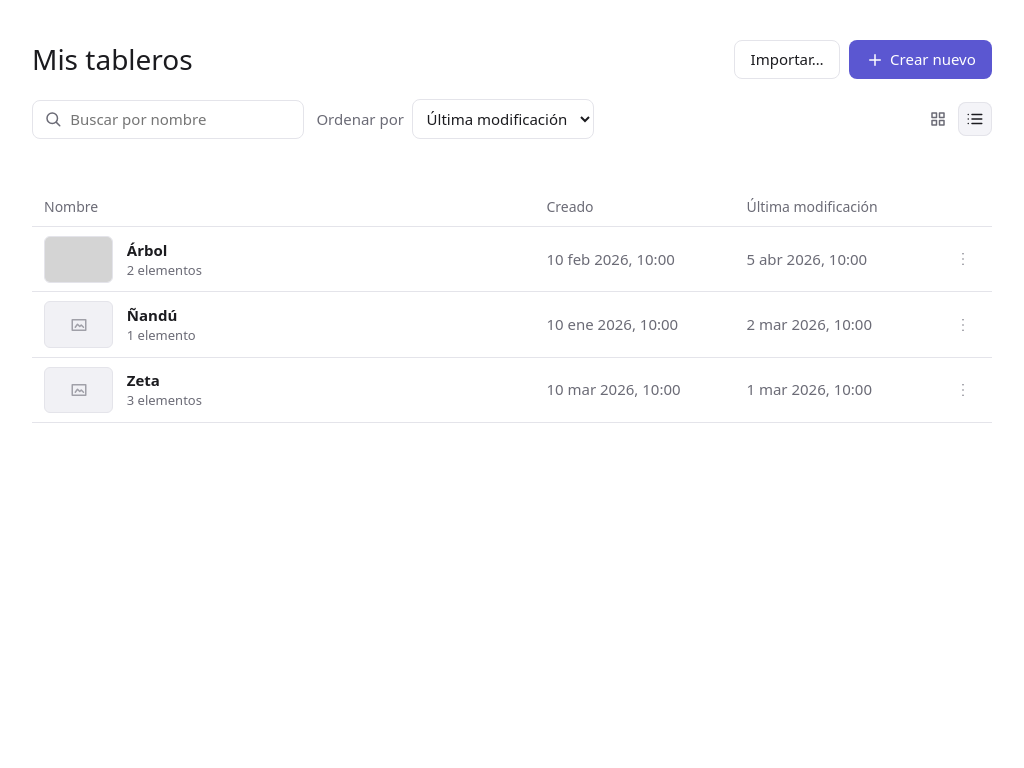
delete › reports a failed delete and keeps the board listed
Expected: the heading "Mis tableros" is shown, x1=32 y1=40 x2=193 y2=79
Expected: the link "Ñandú" is shown, x1=127 y1=305 x2=177 y2=325
Click the button named "Opciones de «Zeta»" at (963, 390), box x1=946 y1=373 x2=980 y2=407
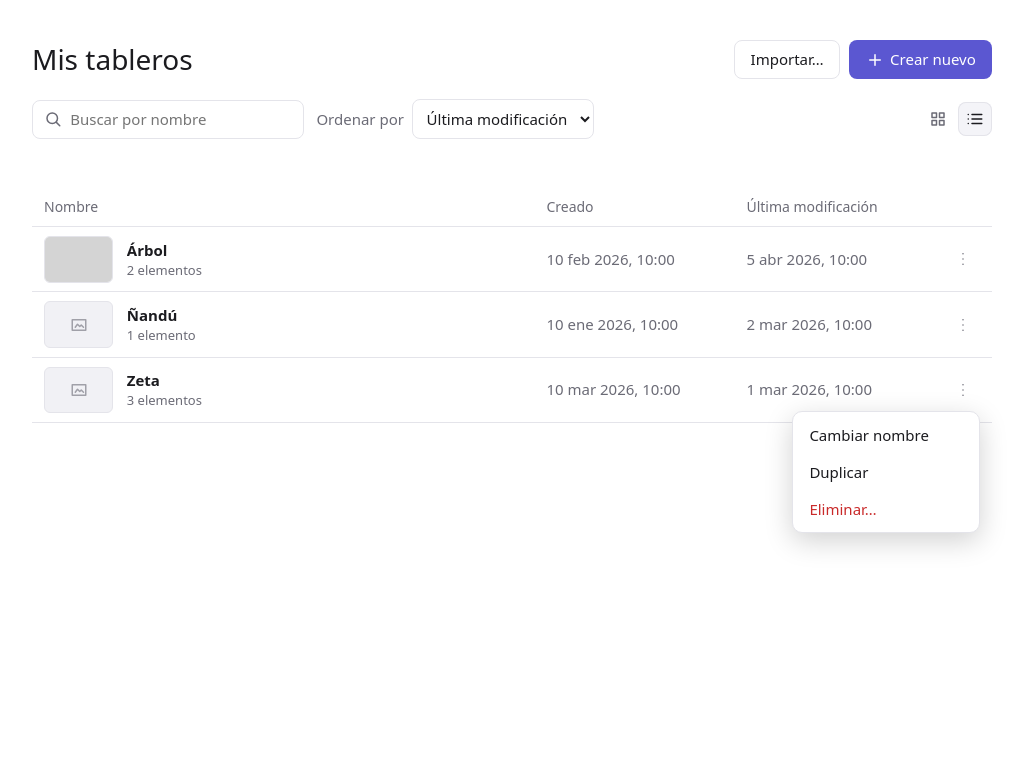
Click the menu item "Eliminar…" at (886, 509), box x1=798 y1=490 x2=974 y2=528
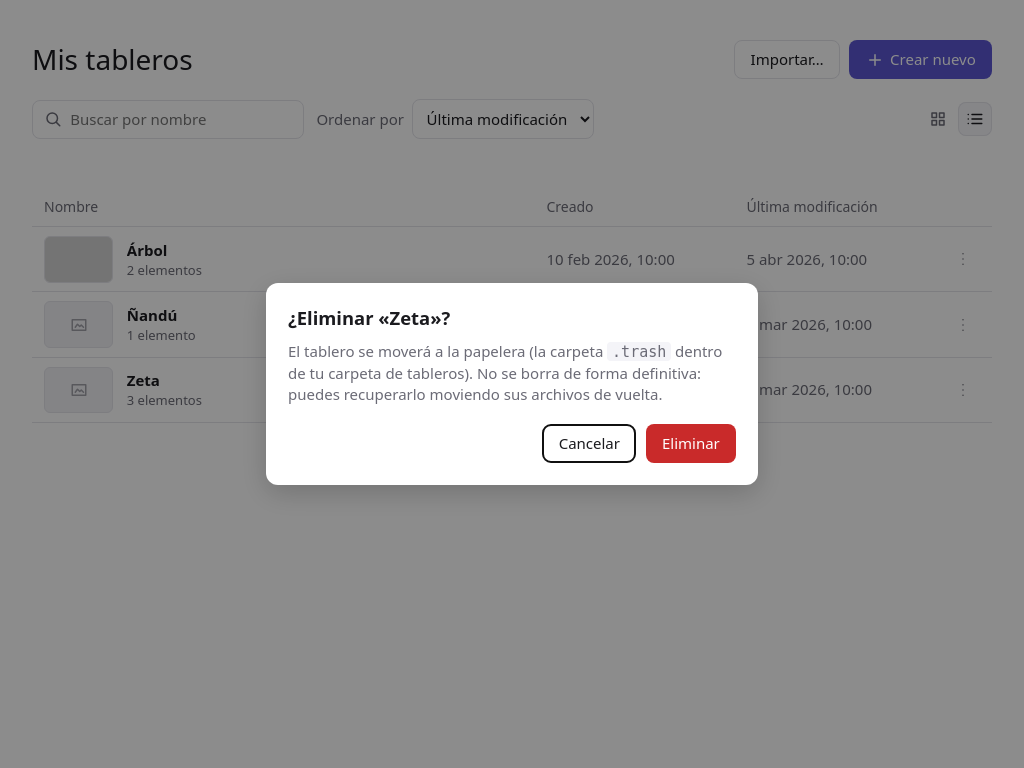
Click the button "Eliminar" at (691, 443), box x1=646 y1=424 x2=736 y2=463
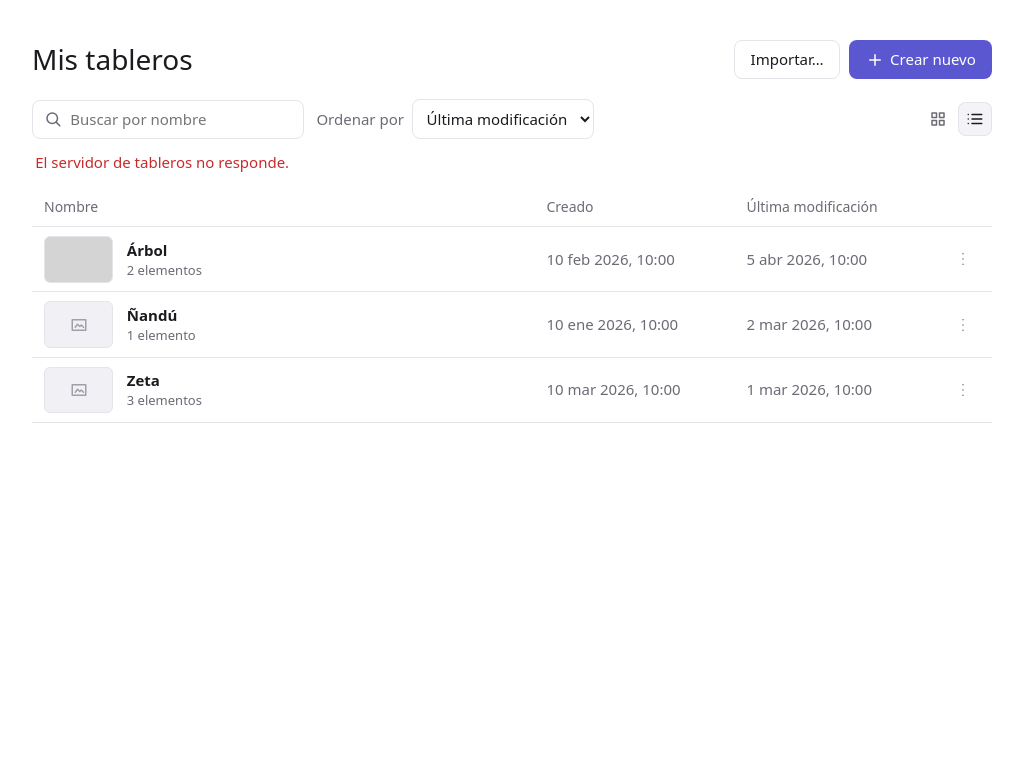
Expected: the link "Zeta" is shown, x1=127 y1=370 x2=160 y2=390
Expected: the text "El servidor de tableros no responde." is shown, x1=35 y1=152 x2=289 y2=172
